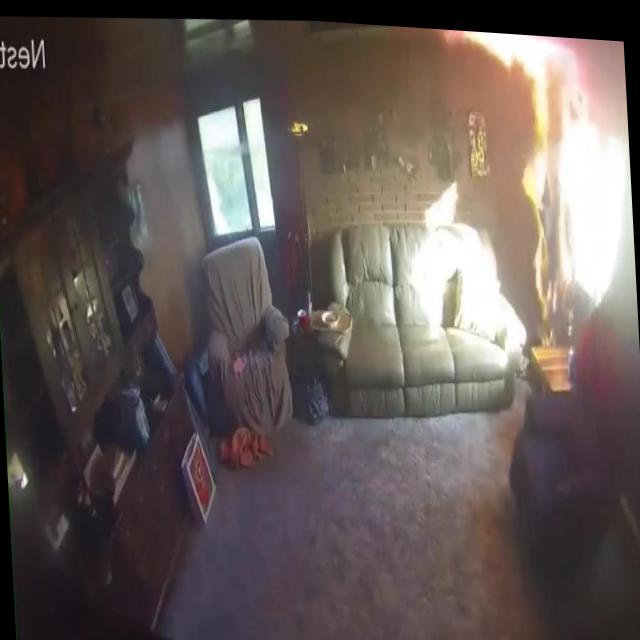fire: (518, 79, 576, 335), (457, 24, 586, 86)
